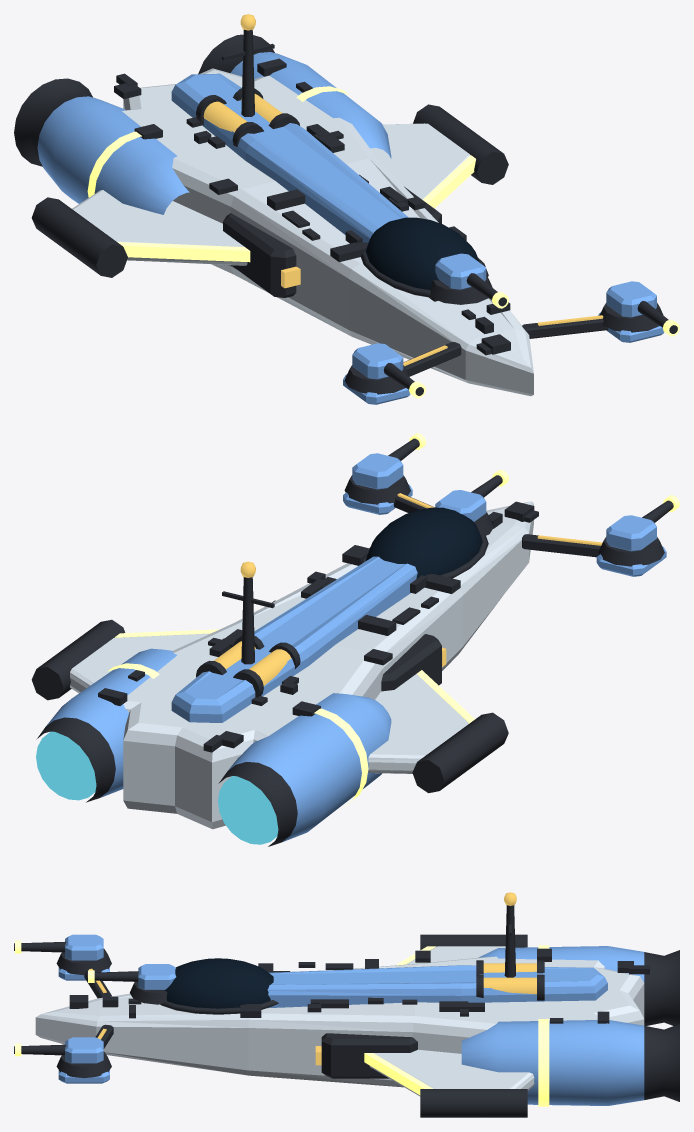
The model's file is ship_aurora_lumen.glb.
3 views of the same model, one above another, from view 1: azimuth 30°, elevation 25°; view 2: azimuth 150°, elevation 25°; view 3: azimuth 270°, elevation 25° (orthographic). The views are drawn at different scales.
Parts seen in each view (by area): view 1: primary, secondary, trim, glass, accent, glow; view 2: primary, secondary, trim, engine, glass, accent, glow; view 3: primary, secondary, trim, glass, accent, glow.
Part boxes in pixels (box(x1,y1,x2,y2)): primary: box(72, 68, 533, 396); secondary: box(37, 52, 664, 404); trim: box(14, 29, 677, 395); glass: box(366, 217, 479, 289); accent: box(87, 86, 679, 398); glow: box(203, 14, 603, 366); primary: box(70, 501, 533, 829); secondary: box(45, 453, 666, 842); trim: box(31, 438, 673, 846); engine: box(36, 731, 278, 844); glass: box(366, 507, 482, 578); accent: box(107, 433, 679, 806); glow: box(214, 493, 602, 685); primary: box(35, 946, 644, 1096); secondary: box(58, 934, 644, 1105); trim: box(14, 905, 679, 1117); glass: box(164, 958, 273, 1008); accent: box(15, 940, 549, 1106); glow: box(89, 892, 536, 1065).
Size of the model in its own units: 1.95 by 0.9444 by 3.28.
